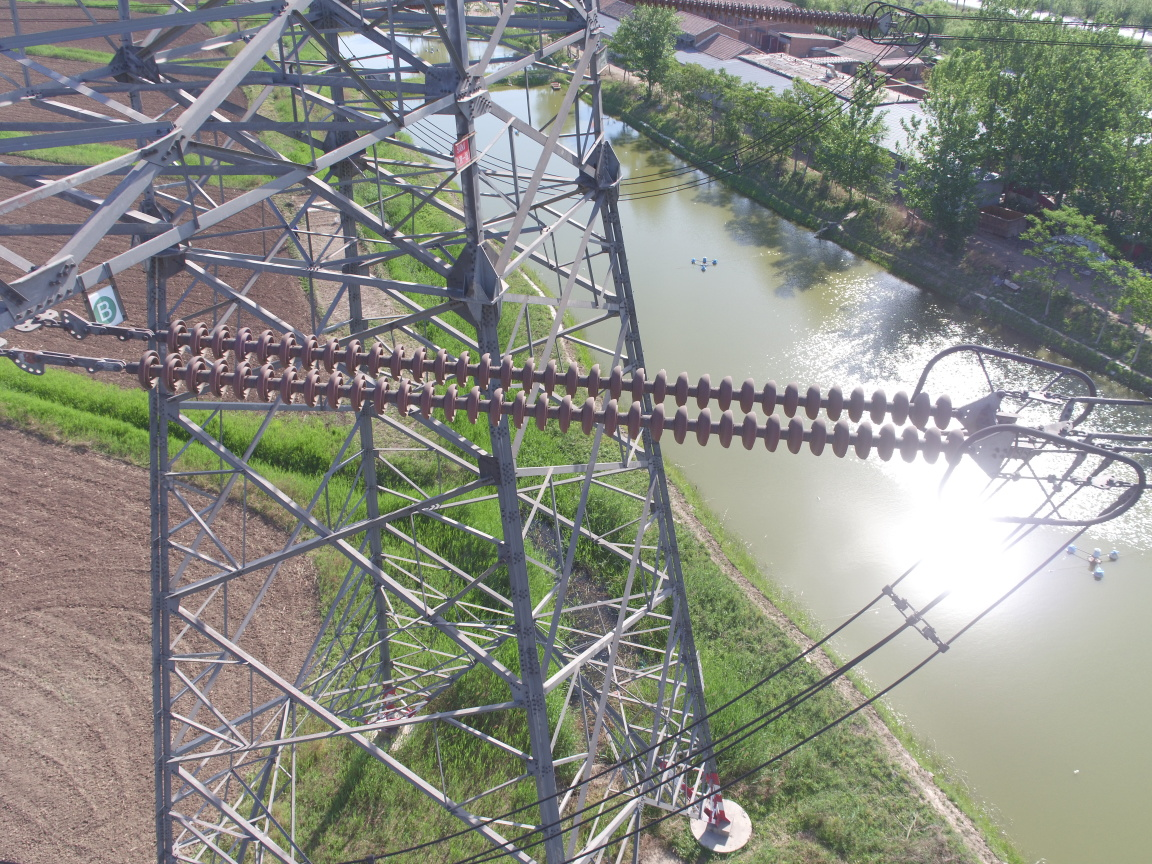insulator: (94, 315, 983, 471)
